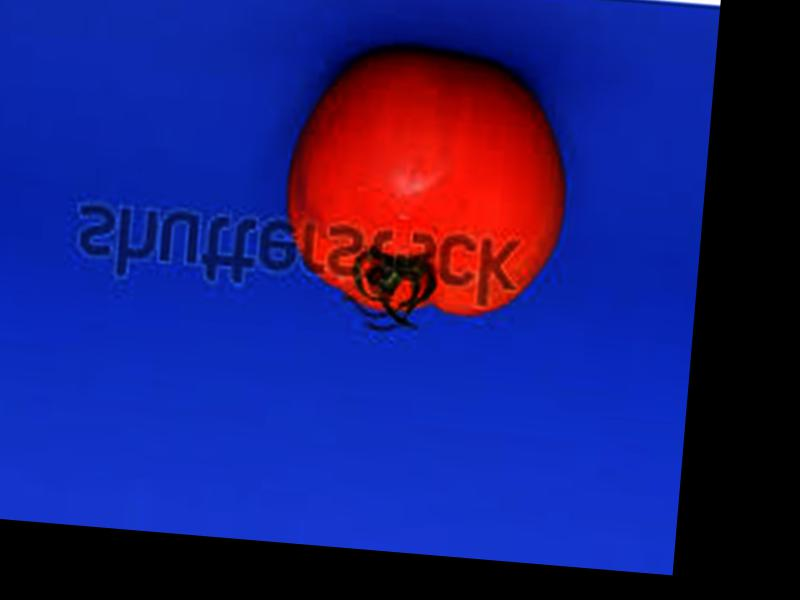Tomato: (282, 44, 580, 328)
